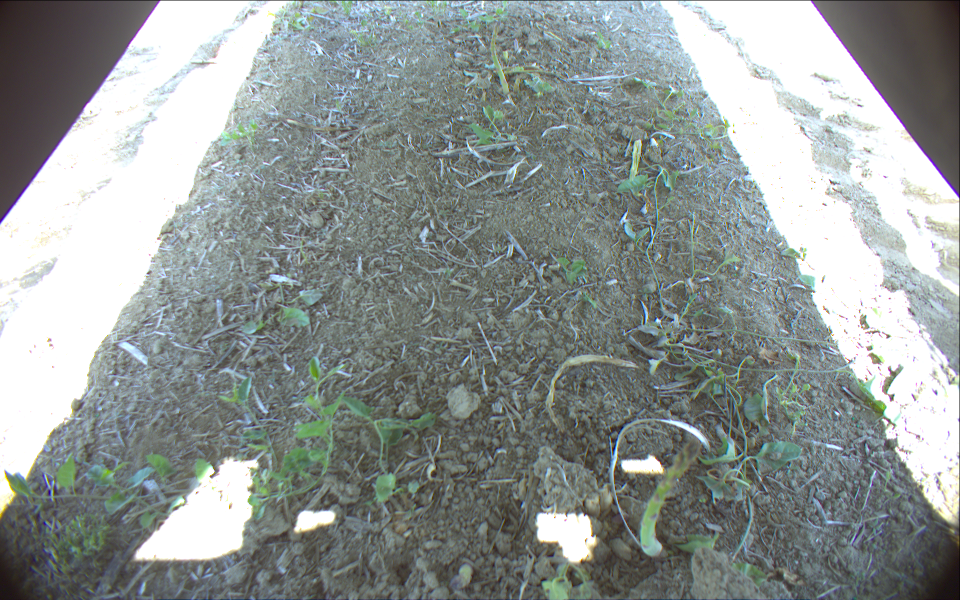aspa: (639, 435, 705, 561), (488, 14, 512, 102), (628, 136, 642, 185)
